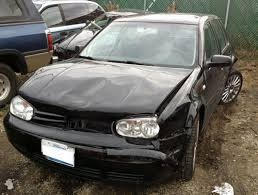Dent: (51, 73, 175, 116), (120, 130, 192, 166)
